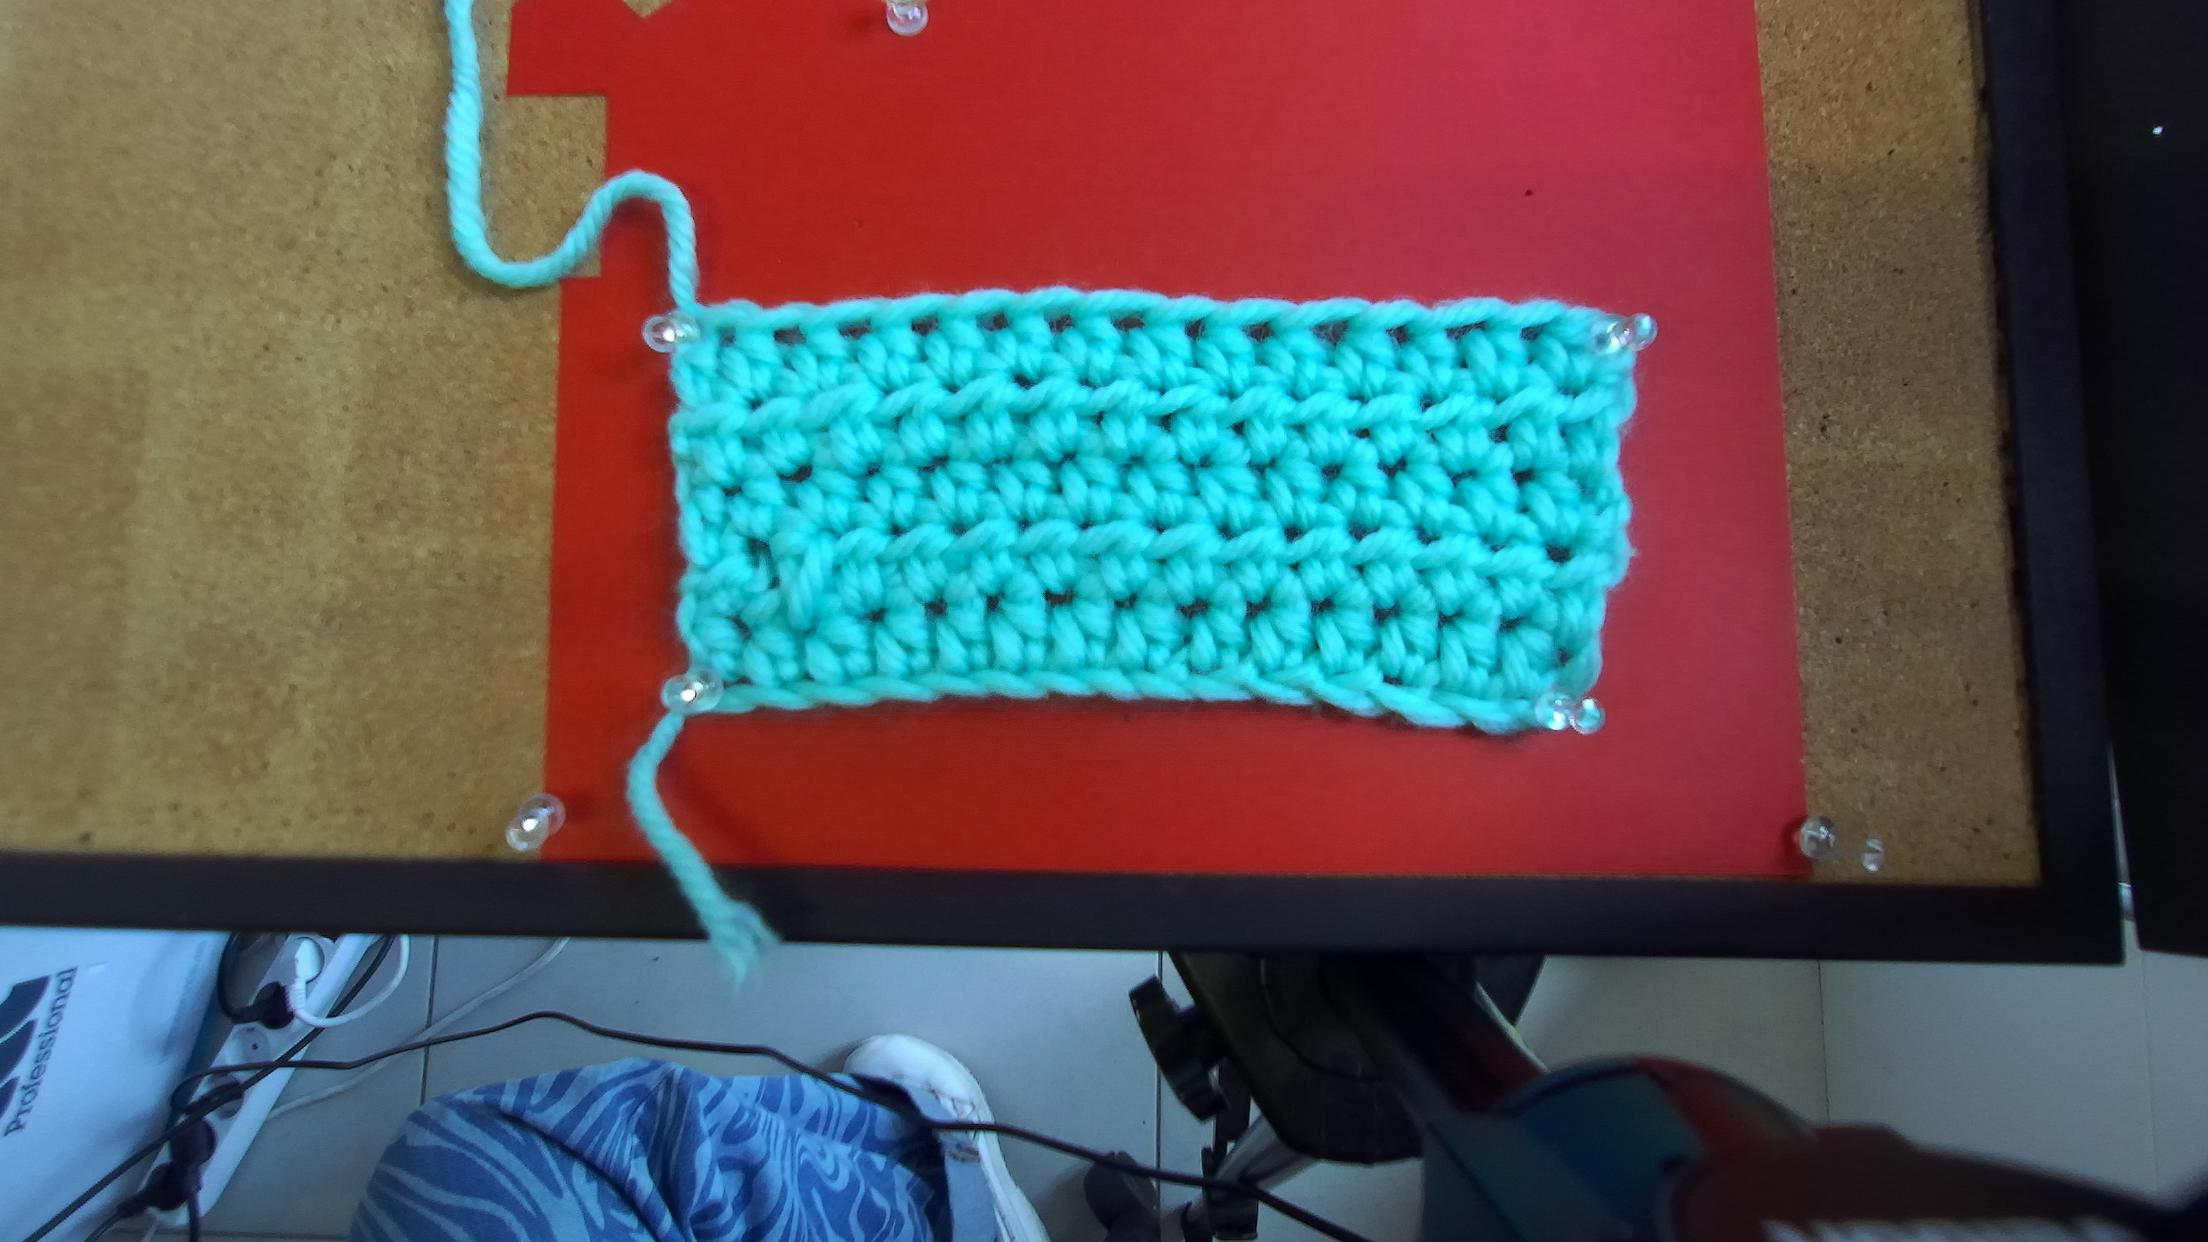hole: (1310, 317, 1351, 350), (1440, 318, 1489, 344), (833, 315, 873, 339), (976, 308, 1013, 333), (912, 310, 943, 339), (1107, 311, 1148, 332), (1239, 321, 1276, 343), (770, 324, 806, 345), (1381, 321, 1410, 347), (1044, 310, 1074, 335), (1182, 314, 1207, 341), (711, 324, 736, 349), (1518, 323, 1547, 344)
swatch: (649, 292, 1661, 739)
